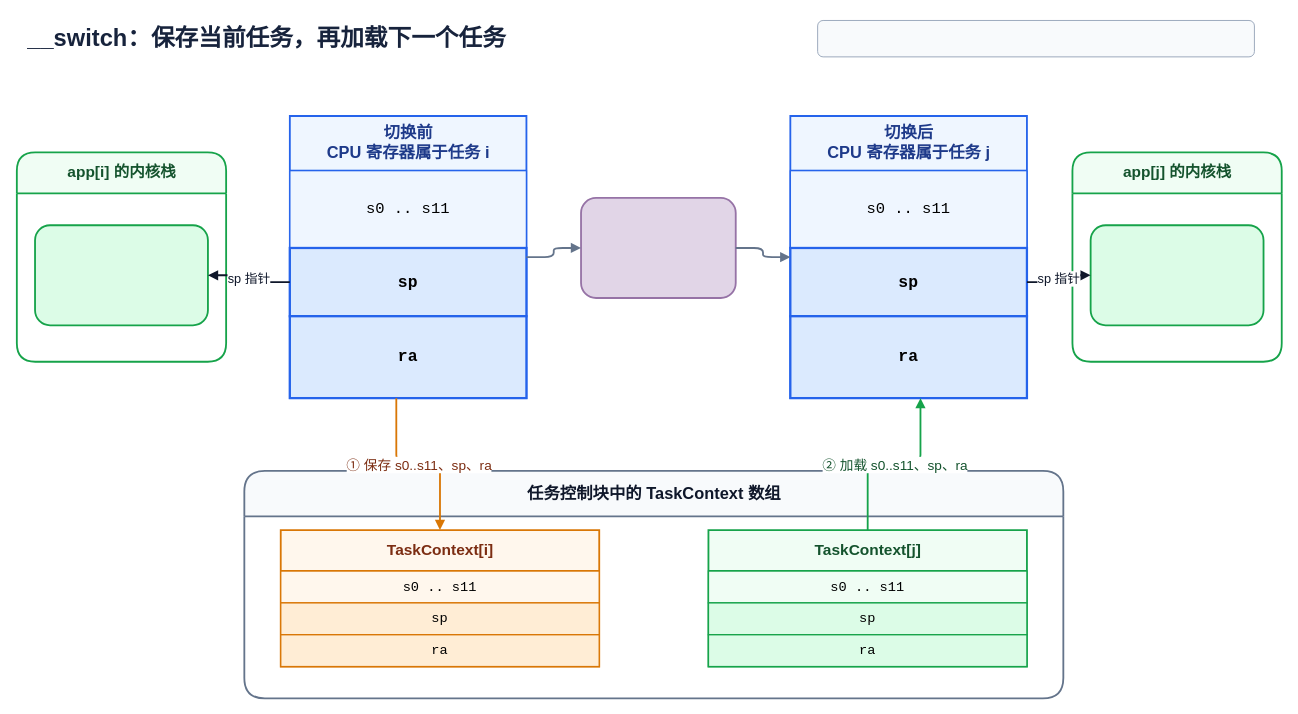
Image size: 1298x714. Some labels were removed from this diagram. The shapes that lost their labels are listed below. From the top down, each one's centre as x and y in pixels, then its label:
At (1035,38): "左右两个 CPU 框是同一组寄存器在切换前后的快照".
At (658,247): "__switch 保存 i，加载 j".
At (121,275): "任务 i 暂停的位置".
At (1176,275): "任务 j 恢复的位置".
